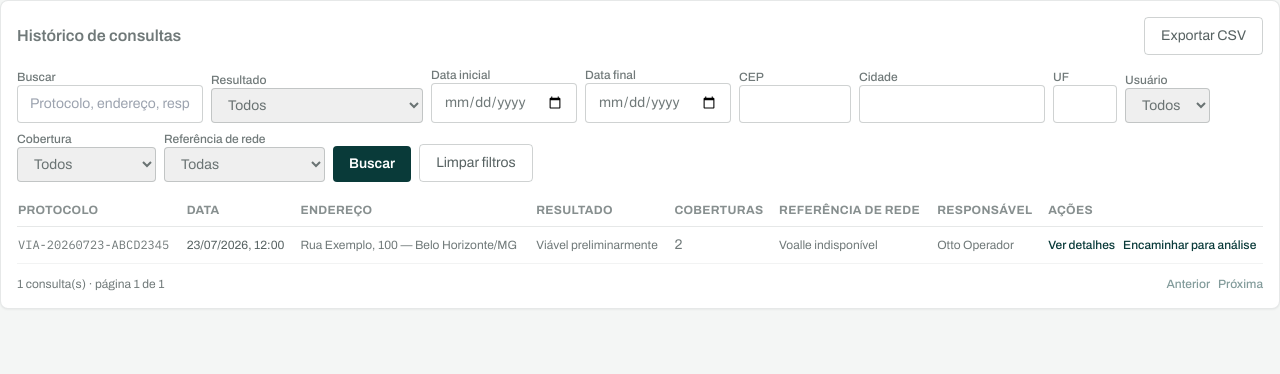
Test: exportação CSV › botão aparece somente para ADMIN e envia os filtros aplicados
Expected: the text "VIA-20260723-ABCD2345" is shown, [17, 226, 186, 264]
Select "Fora da cobertura" in the dropdown labelled "Resultado": (317, 106) [211, 88, 423, 123]
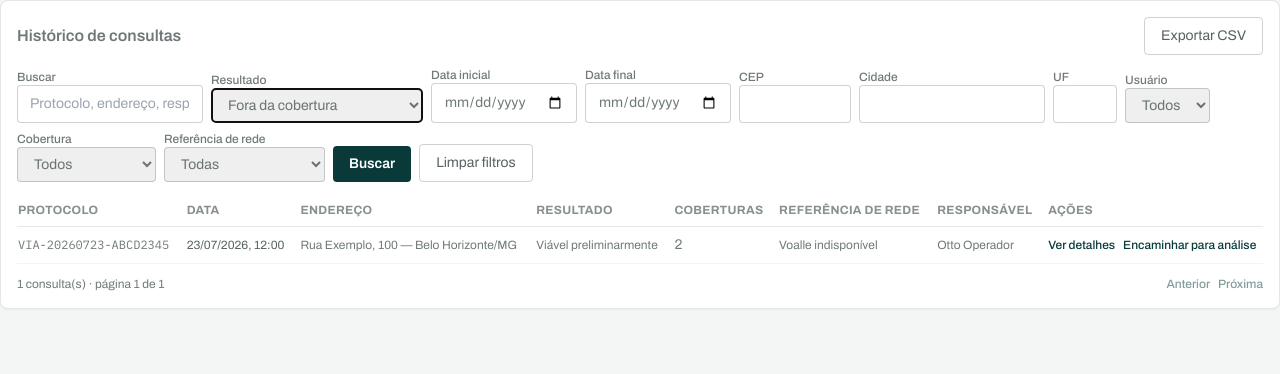
Click the button "Buscar": (372, 164) [333, 146, 411, 182]
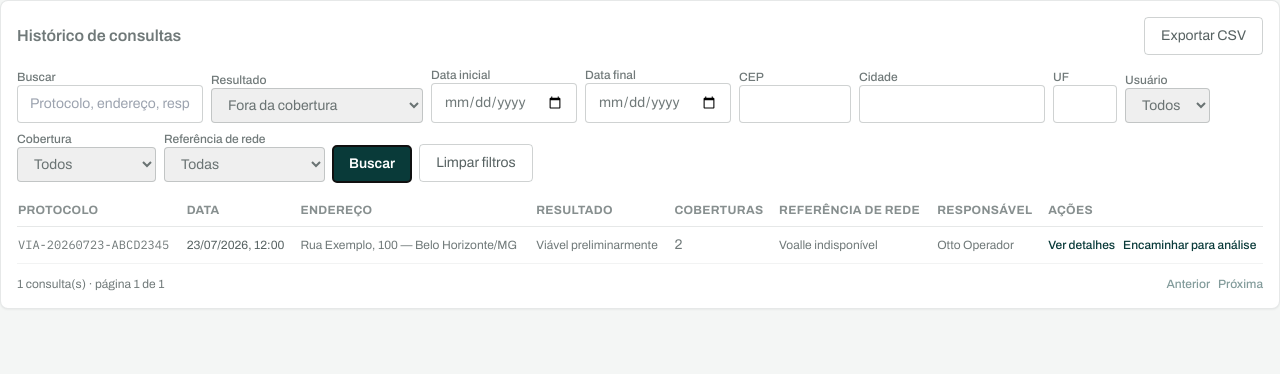
Click the button "Exportar CSV": (1204, 36) [1144, 17, 1263, 55]
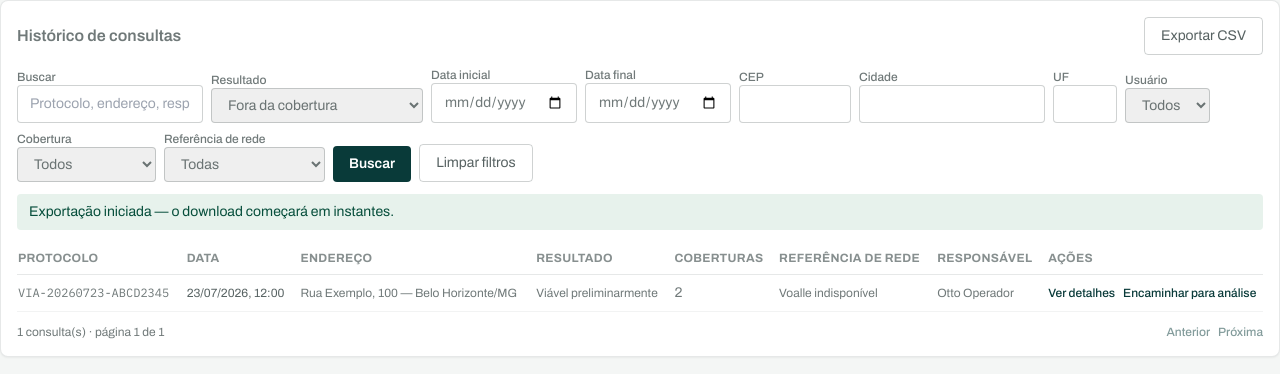
Now the text "Exportação iniciada — o download começará em instantes." is shown, box [17, 194, 1263, 230]
